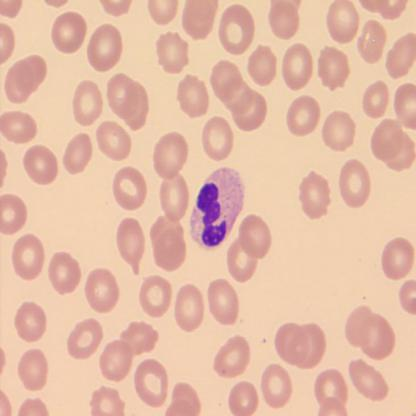Segmented neutrophil: (189, 165, 246, 251)
